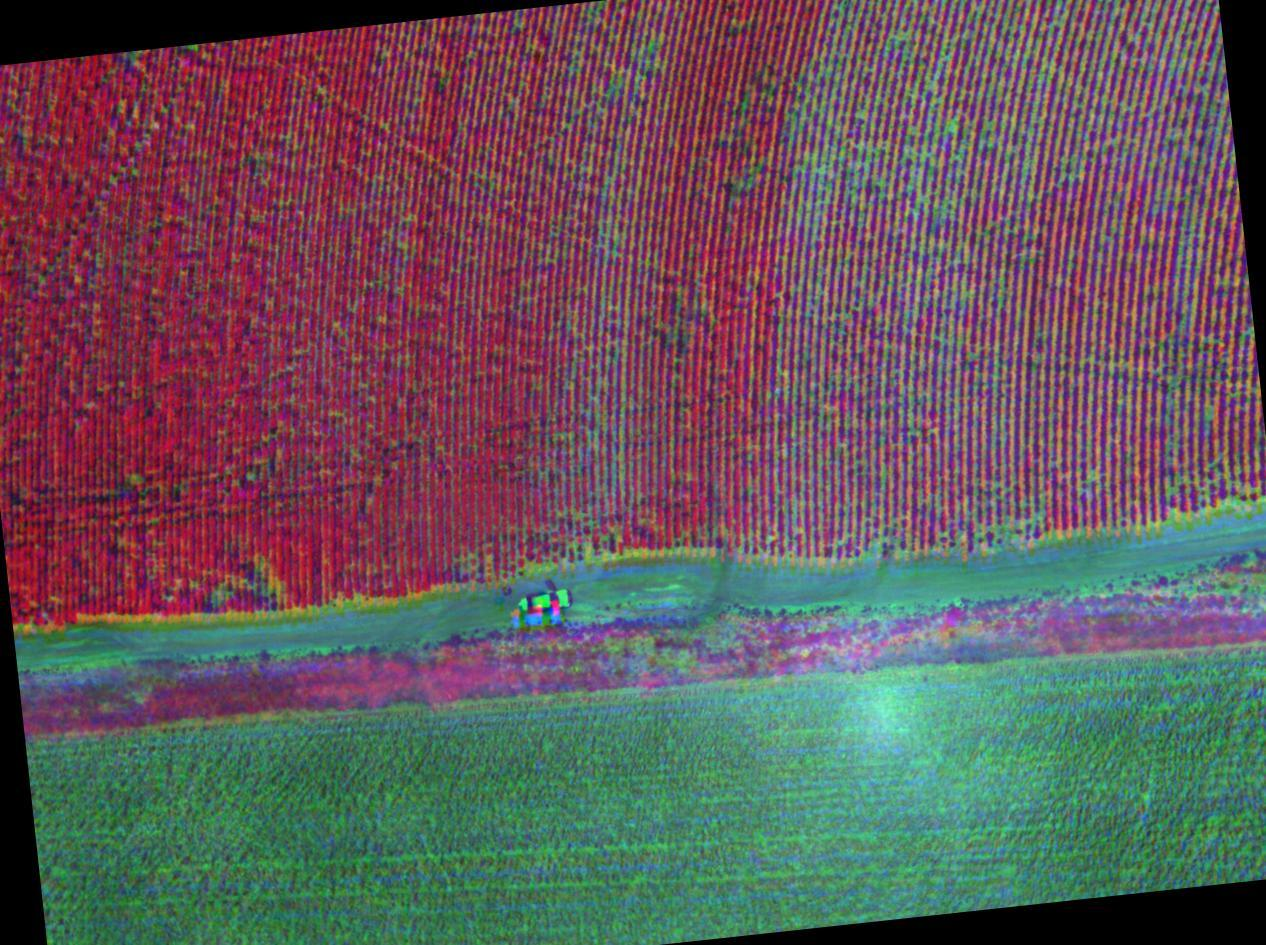dc: (856, 493, 1035, 550), (931, 110, 1033, 209), (808, 115, 923, 195), (856, 5, 967, 77), (1038, 48, 1133, 120)
